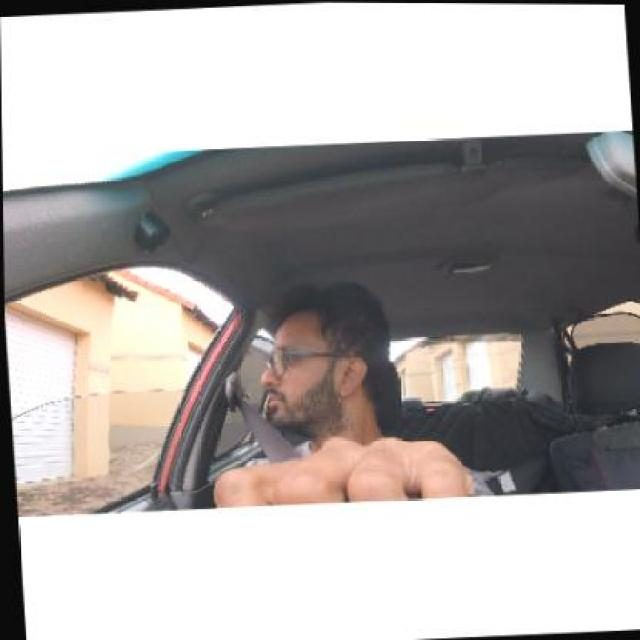LeftRight: (256, 307, 396, 430)
